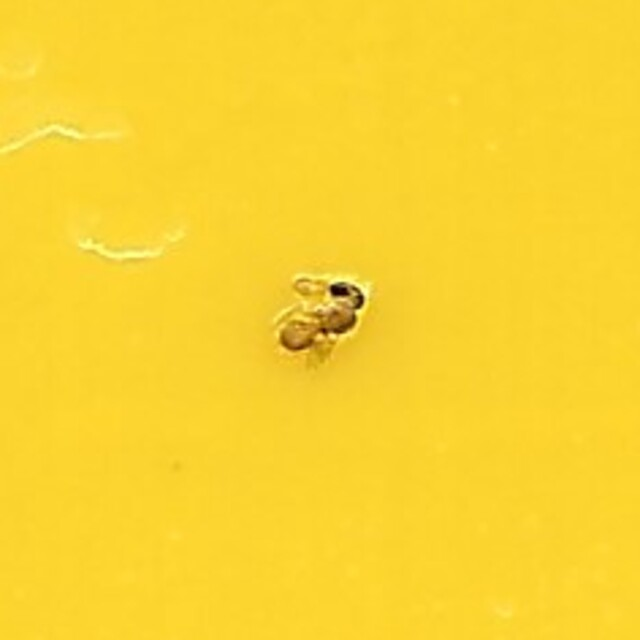Hymenoptera: (271, 271, 369, 369)
